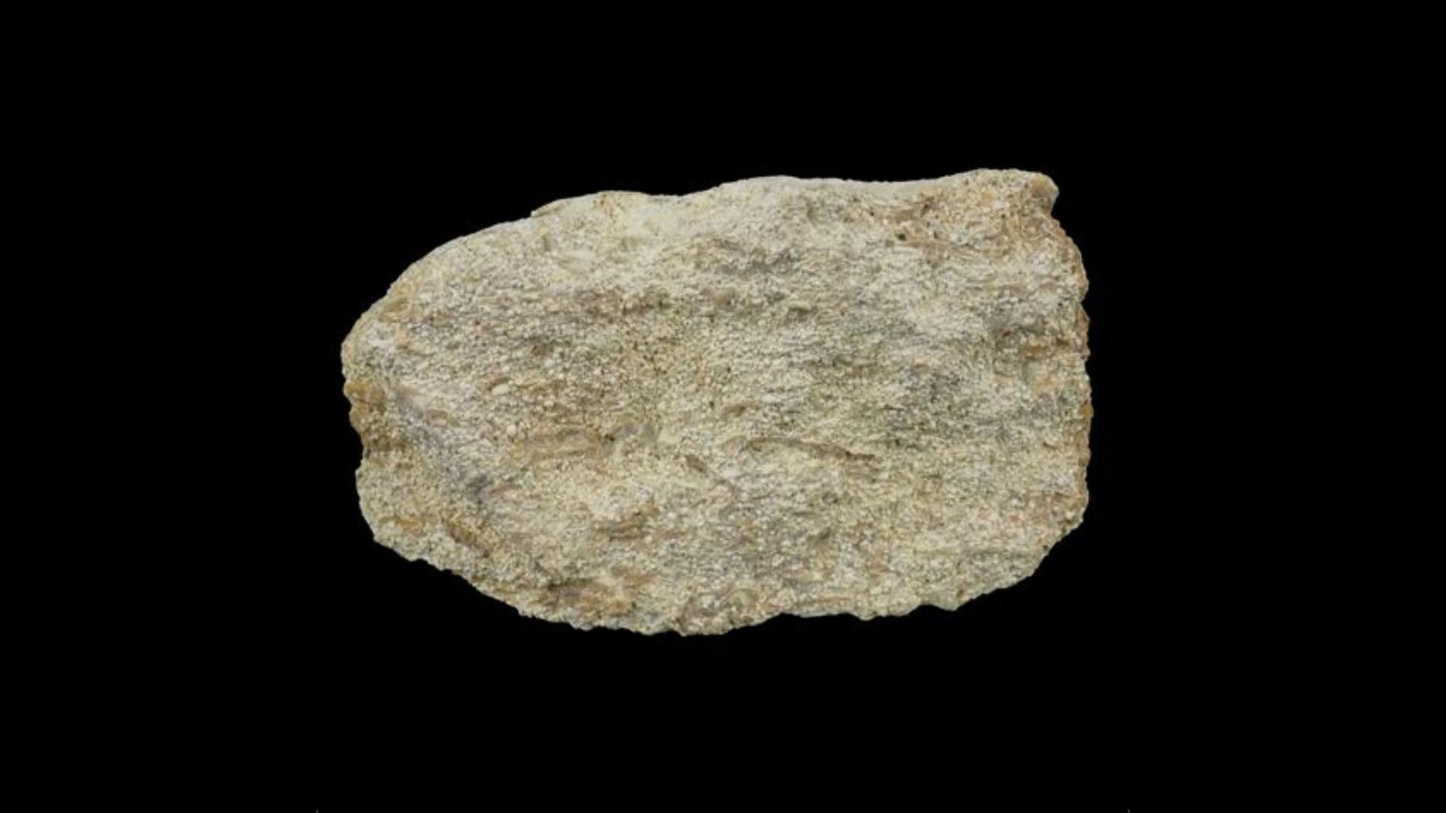rock: (344, 170, 1085, 631)
